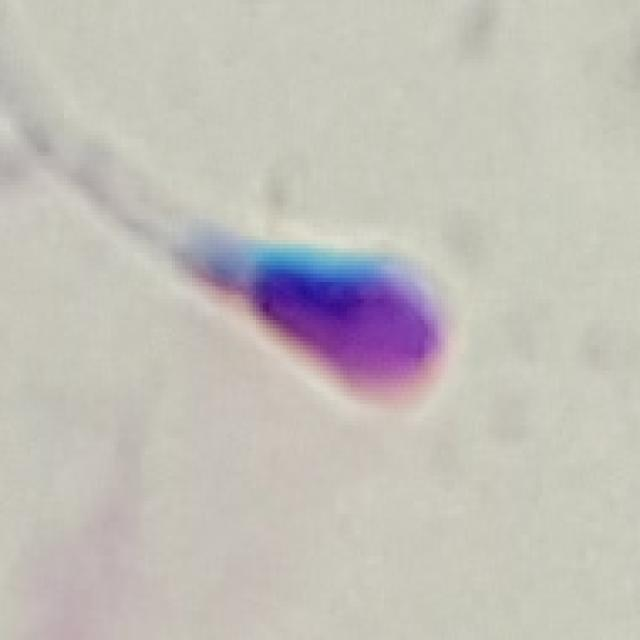abnormal sperm: (52, 67, 477, 433)
